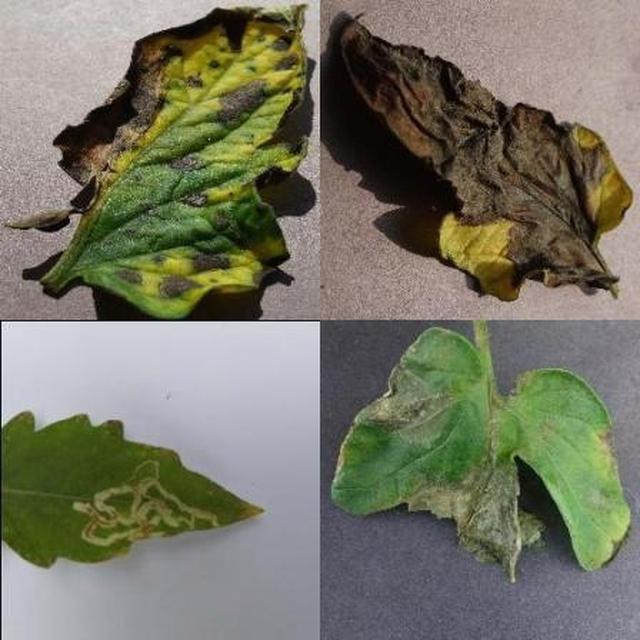Early Blight Leaf: (188, 223, 640, 640)
